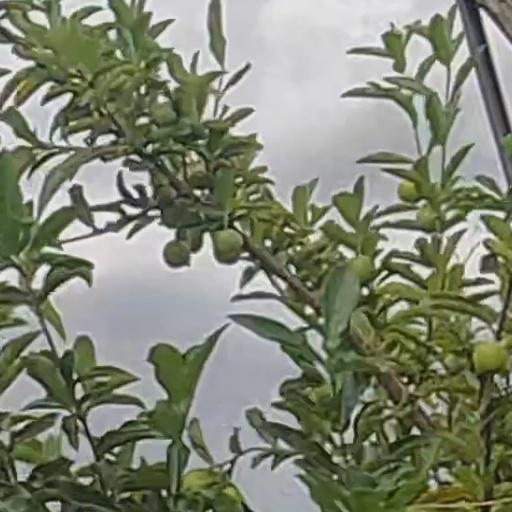acerola_verde: (473, 343, 509, 375), (215, 230, 240, 261), (164, 243, 191, 267), (399, 182, 419, 203)
